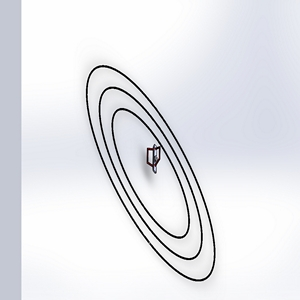circle: (69, 58, 224, 288)
submarine: (142, 142, 169, 184)
